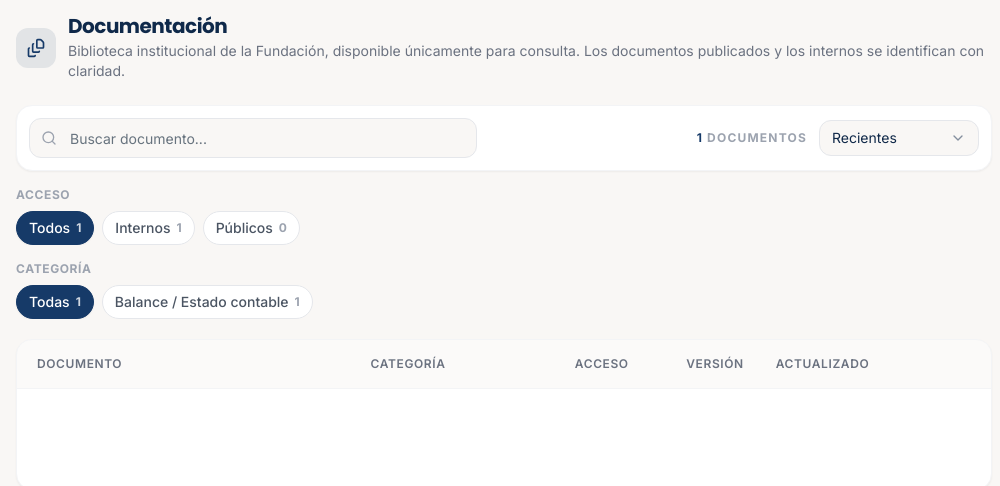
Scenario: DocumentsManager — acceso documental › filtra el catálogo completo por tipo de acceso
What coordinates should you click on to do the following:
click the button "Públicos 0"
I would click on:
 (251, 228)
Its box is [203, 211, 300, 245].
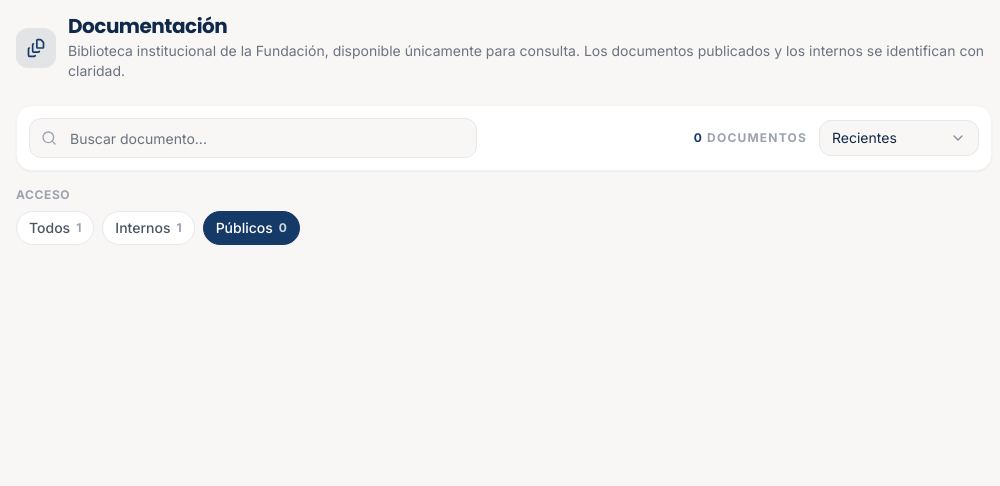
What coordinates should you click on to do the following:
click the button "Internos 1"
I would click on:
 (148, 228)
Its box is [102, 211, 195, 245].
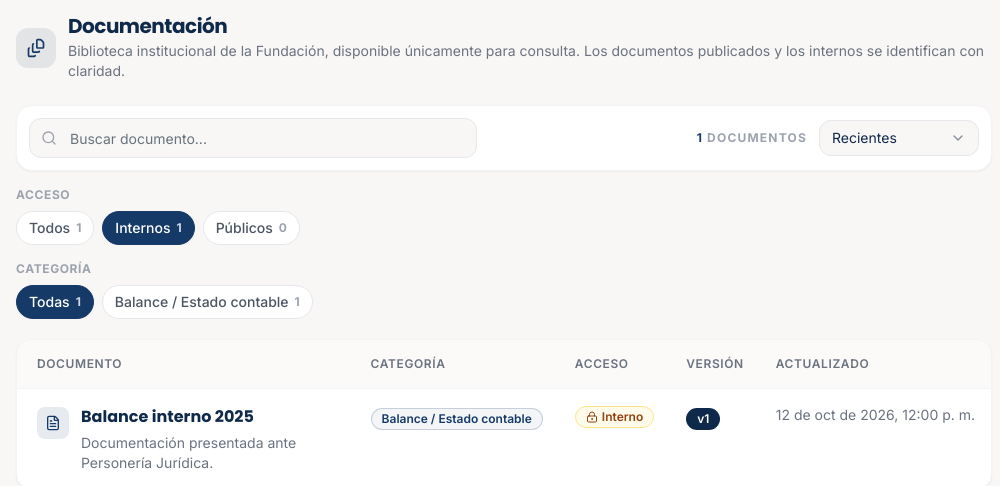
Check: the text "Balance interno 2025" is shown 2 times
